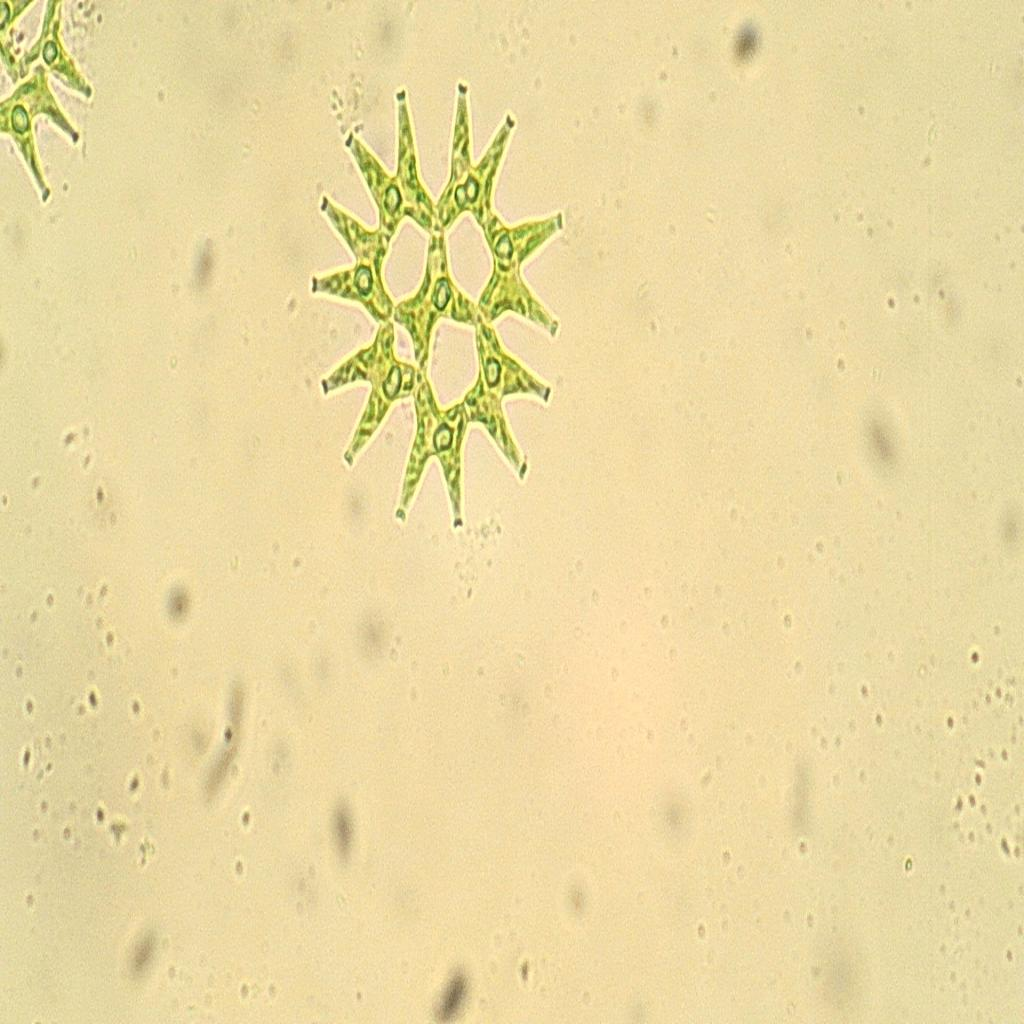Pediastrum_75T: (301, 60, 587, 560)
